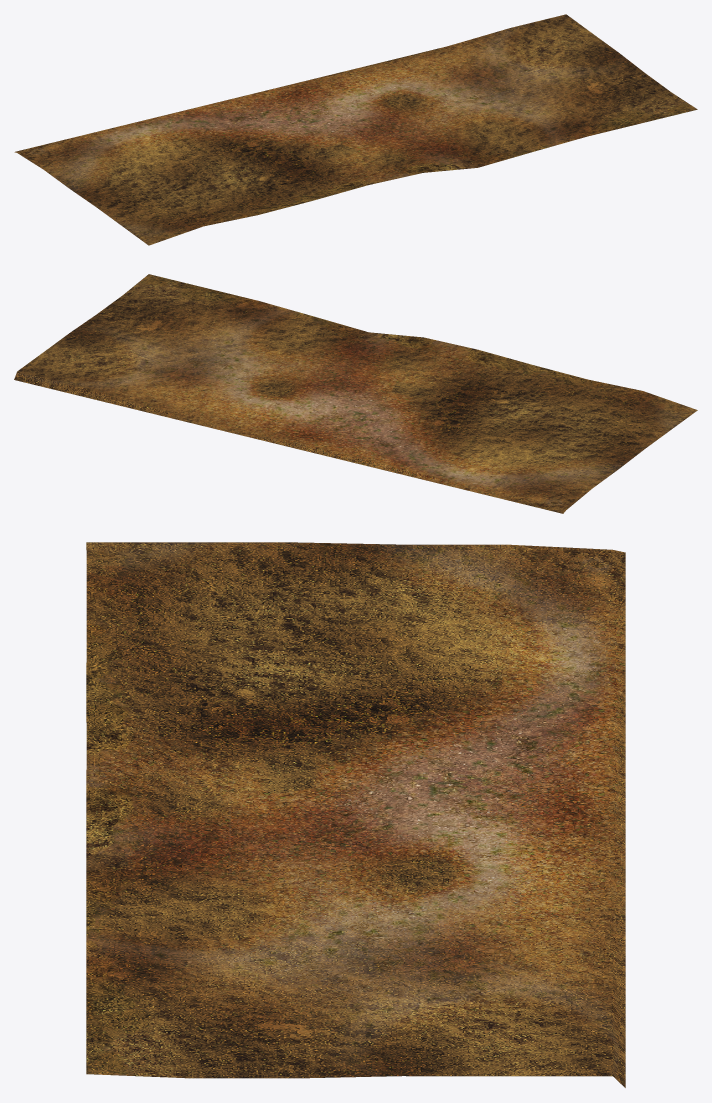
File: Grass.fbx
The picture shows the model from 3 angles, top to bottom: view 1: azimuth 30°, elevation 25°; view 2: azimuth 150°, elevation 25°; view 3: azimuth 270°, elevation 25°; orthographic projection. The views are drawn at different scales.
Visible parts, largest first — view 1: polySurface492, polySurface494, polySurface487, polySurface499, polySurface496, polySurface489, polySurface498, polySurface481, polySurface483, polySurface485, polySurface503, polySurface508 (+3 smaller); view 2: polySurface483, polySurface481, polySurface489, polySurface485, polySurface498, polySurface496, polySurface499, polySurface487, polySurface492, polySurface494, polySurface508, polySurface507 (+3 smaller); view 3: polySurface494, polySurface485, polySurface498, polySurface499, polySurface487, polySurface489, polySurface483, polySurface481, polySurface496, polySurface492, polySurface501, polySurface505 (+3 smaller).
Part boxes in pixels (x1,y1,x2,y2): polySurface492: [482, 33, 644, 103]; polySurface494: [373, 61, 534, 126]; polySurface487: [426, 103, 587, 167]; polySurface499: [44, 145, 205, 206]; polySurface496: [263, 88, 424, 153]; polySurface489: [535, 73, 697, 136]; polySurface498: [154, 118, 315, 180]; polySurface481: [96, 180, 257, 245]; polySurface483: [206, 154, 367, 214]; polySurface485: [316, 127, 477, 185]; polySurface503: [124, 98, 262, 144]; polySurface508: [456, 14, 592, 61]; polySurface483: [426, 350, 587, 421]; polySurface481: [536, 379, 697, 448]; polySurface489: [96, 274, 258, 344]; polySurface485: [316, 332, 478, 395]; polySurface498: [373, 396, 534, 463]; polySurface496: [264, 368, 425, 436]; polySurface499: [483, 422, 644, 488]; polySurface487: [207, 301, 368, 368]; polySurface492: [44, 314, 205, 379]; polySurface494: [154, 345, 315, 406]; polySurface508: [14, 352, 153, 406]; polySurface507: [124, 380, 262, 433]; polySurface494: [297, 863, 507, 977]; polySurface485: [86, 743, 296, 868]; polySurface498: [297, 649, 507, 762]; polySurface499: [297, 542, 507, 655]; polySurface487: [86, 863, 296, 977]; polySurface489: [86, 966, 296, 1078]; polySurface483: [86, 642, 296, 757]; polySurface481: [86, 542, 296, 649]; polySurface496: [297, 756, 507, 863]; polySurface492: [297, 970, 507, 1078]; polySurface501: [507, 544, 625, 659]; polySurface505: [507, 761, 625, 873].
Size of the model in its own units: 67.11 by 1.39 by 28.54.
